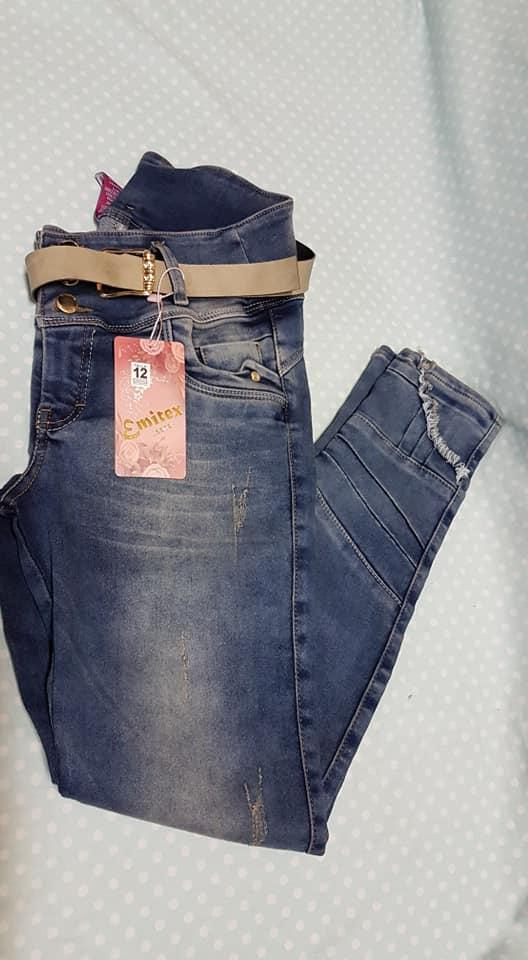jeans: (0, 142, 528, 862)
